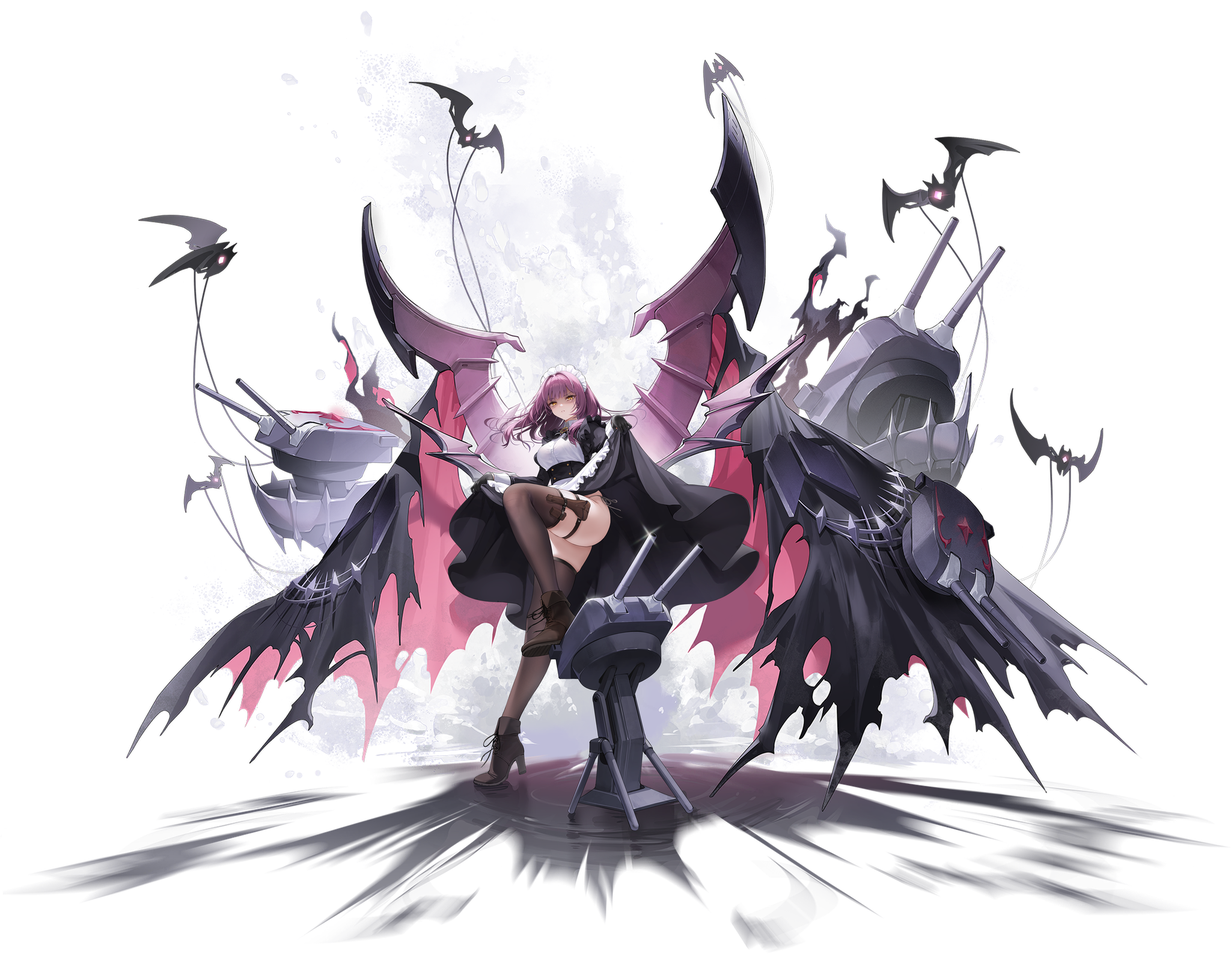person: (636, 41, 1099, 881)
